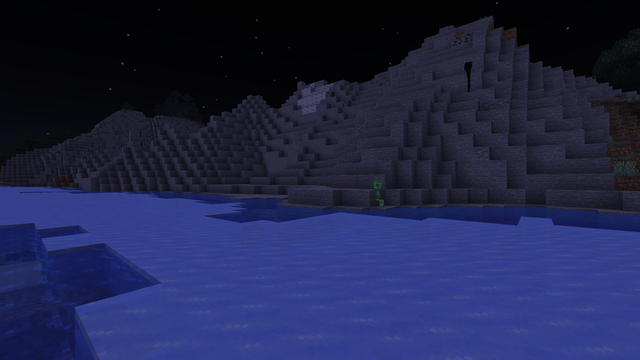creepers: (370, 178, 383, 206)
endermens: (463, 59, 472, 87)
